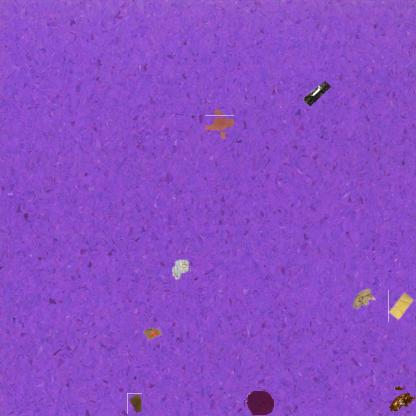dirty: (304, 79, 334, 109), (388, 290, 415, 322), (391, 387, 416, 413), (350, 286, 376, 310), (172, 258, 190, 280), (142, 326, 164, 342), (127, 393, 142, 414)
liquid: (244, 390, 274, 416), (208, 112, 231, 136)
